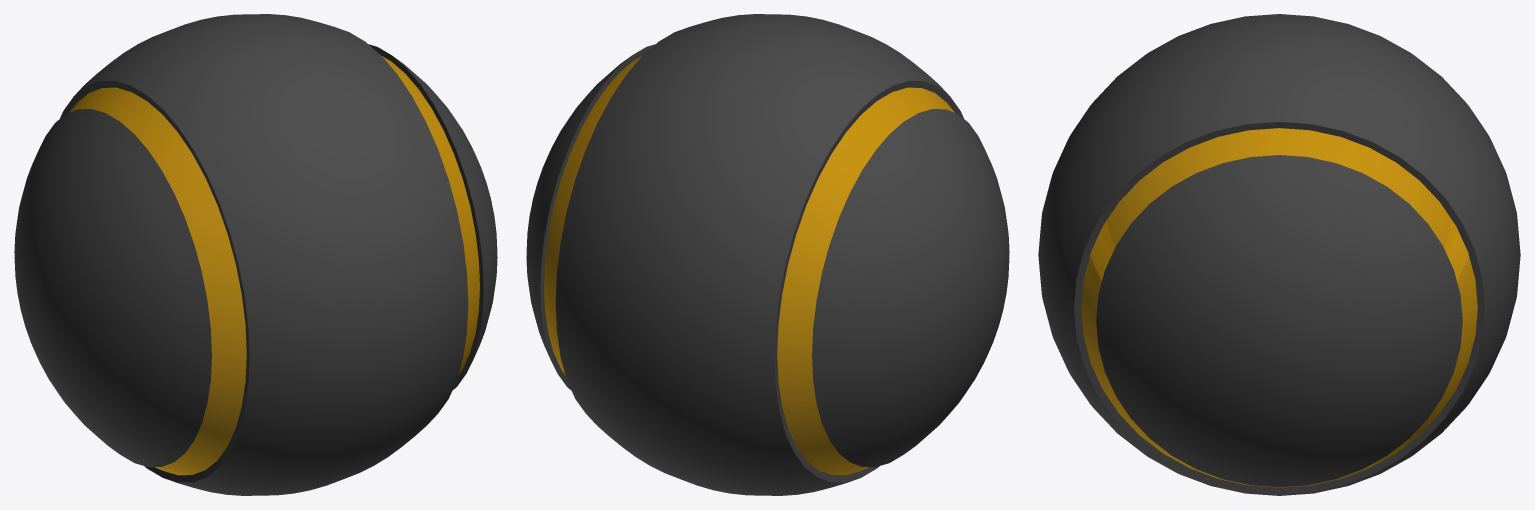
File: orange_orb.fbx
3 views of the same model, side by side, from view 1: azimuth 30°, elevation 25°; view 2: azimuth 150°, elevation 25°; view 3: azimuth 270°, elevation 25° (orthographic).
Parts seen in each view (by area): view 1: orange_orb; view 2: orange_orb; view 3: orange_orb.
Part boxes in pixels (box(x1,y1,x2,y2)): orange_orb: box(14, 14, 497, 495); orange_orb: box(526, 14, 1009, 495); orange_orb: box(1038, 14, 1520, 495).
Bounding box in the file's own units: 2.09 × 2.09 × 2.09.
